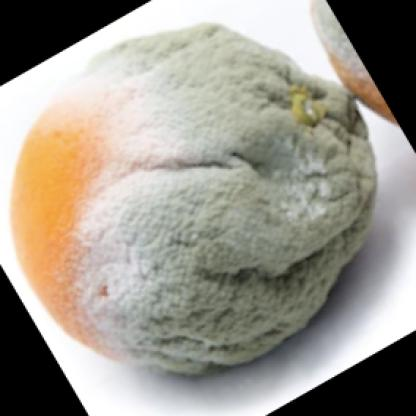rotten: (14, 25, 379, 384)
